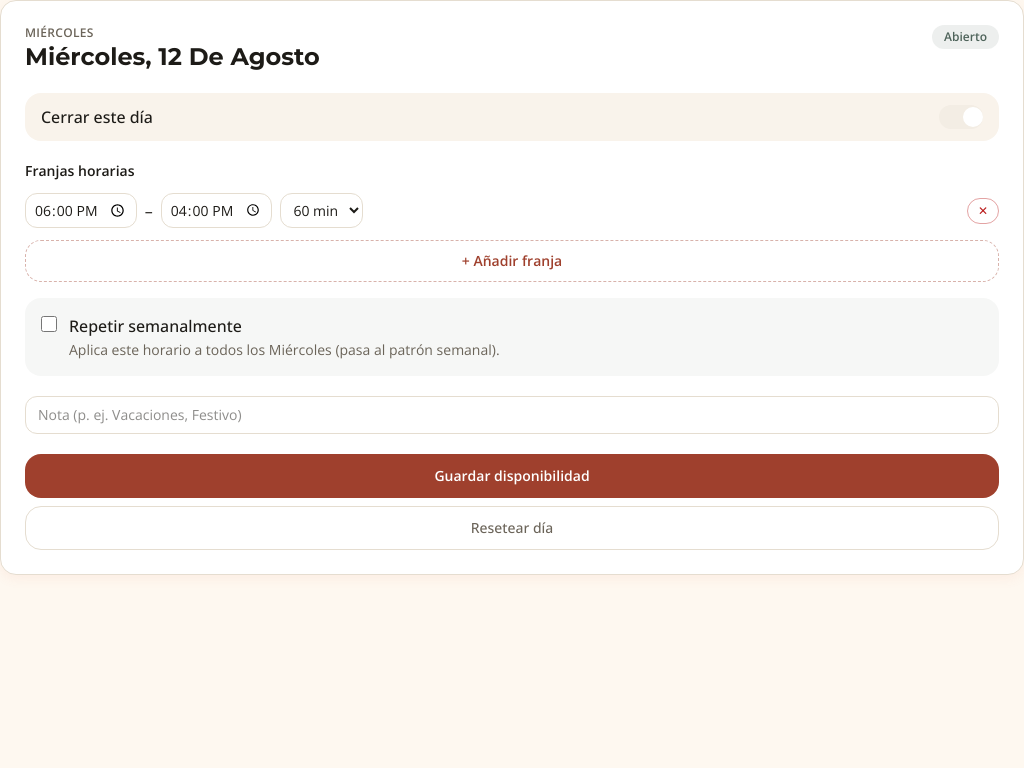
Test: PanelDiaEditor › bloquea el guardado si una franja tiene el fin antes del inicio
Click the button "Guardar disponibilidad" at (512, 476), box [25,454,999,498]
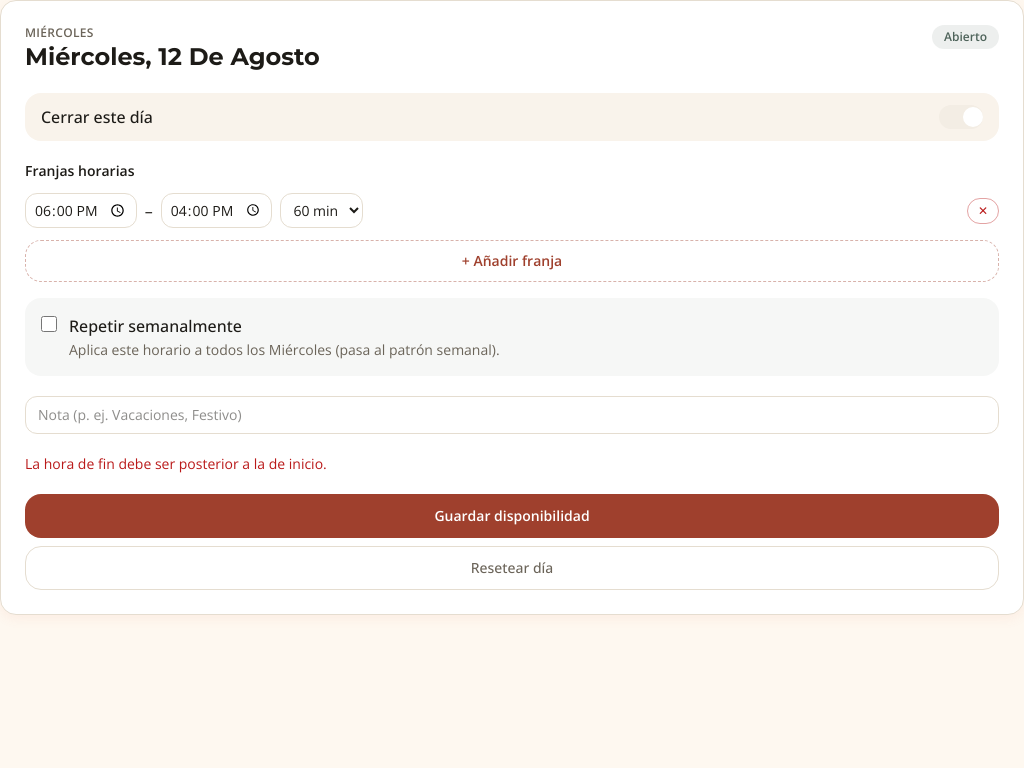
Expected: the text "La hora de fin debe ser posterior a la de inicio." is shown, [25,454,327,473]
